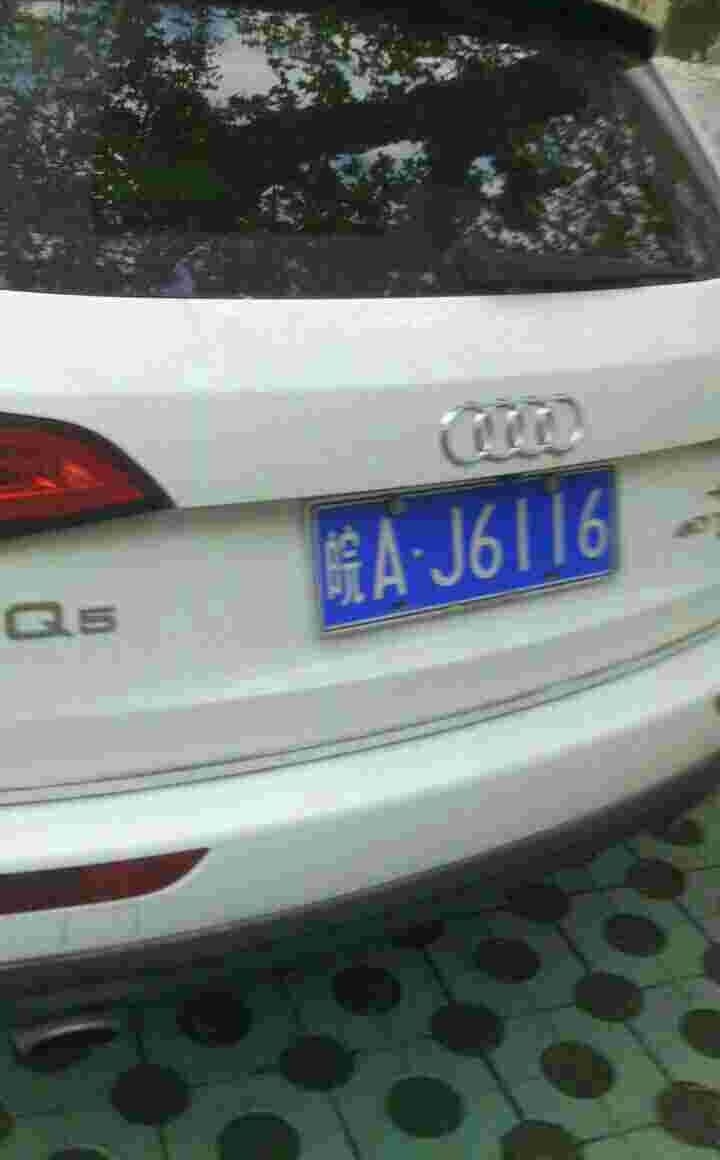car_blue: (304, 459, 625, 641)
